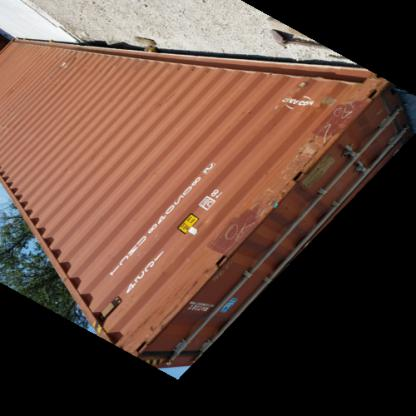Damage: (284, 78, 366, 184), (208, 202, 262, 262), (53, 52, 82, 78)
